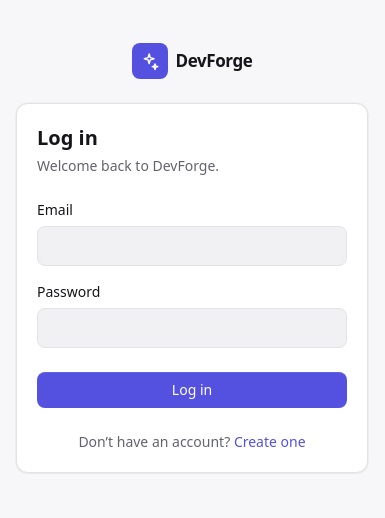
Test: Login page › shows the server error message for invalid credentials
Type "me@example.com" into the field labelled "Email".
click(192, 246); type("me@example.com")  # box x1=37 y1=226 x2=347 y2=266
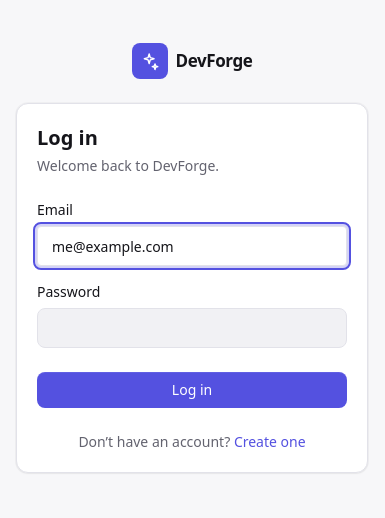
Type "wrong-password" into the password field labelled "Password".
click(192, 328); type("wrong-password")  # box x1=37 y1=308 x2=347 y2=348
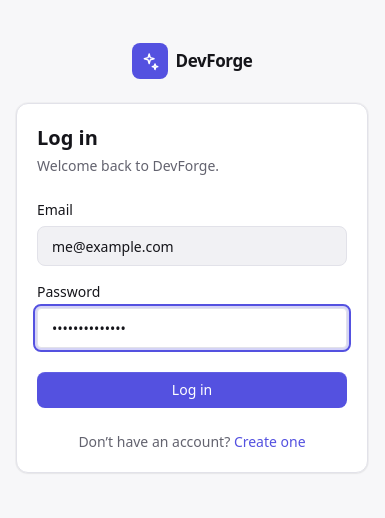
Click the button "Log in".
click(192, 390)  # box x1=37 y1=372 x2=347 y2=408
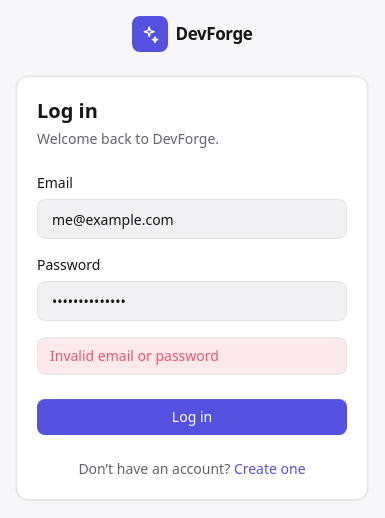
Now the text "Invalid email or password" is shown, box x1=37 y1=337 x2=347 y2=375
